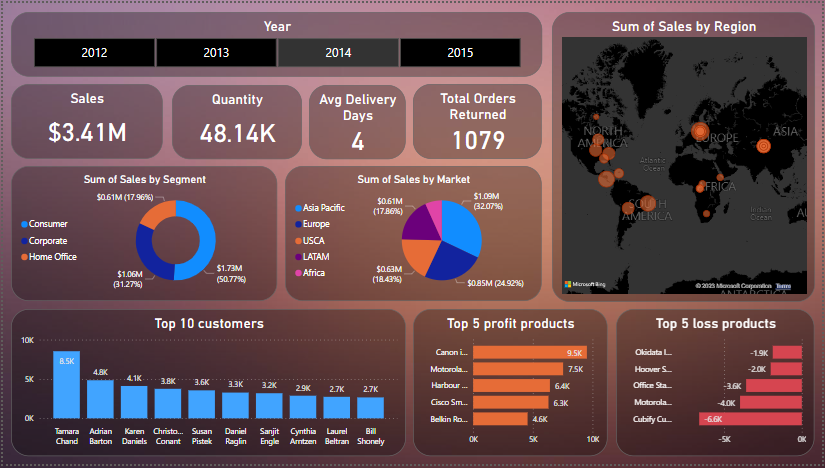

This screenshot's page, from the dashboard's own definition file:
{"tool":"powerbi","page":{"name":"Page 1","canvas":[1280,720],"ordinal":0},"visuals":[{"type":"card","title":"Sales","fields":{"Values":["Sum(Orders.Sales)"]},"box":[11.7,125.8,236.5,117.4],"z":0},{"type":"card","title":"Quantity","fields":{"Values":["Sum(Orders.Quantity)"]},"box":[263.4,127.5,203,115.8],"z":1000},{"type":"card","title":"Avg Delivery Days","fields":{"Values":["Avg(Orders.Delivery Days)"]},"box":[478.1,127.5,151,115.8],"z":2000},{"type":"slicer","title":"Year","fields":{"Values":["Orders.Year"]},"box":[11.7,13.4,830.4,100.7],"z":3000},{"type":"card","title":"Total Orders Returned","fields":{"Values":["Sum(Returns.Return Orders)"]},"box":[640.8,125.8,201.3,117.4],"z":4000},{"type":"map","fields":{"Size":["Sum(Orders.Sales)"],"Category":["Orders.Region"]},"box":[857.2,13.4,411,452.9],"z":5000},{"type":"barChart","title":"Top 5 profit products","fields":{"Y":["Sum(Orders.Profit)"],"Category":["Orders.Product Name"]},"box":[640.8,478.1,303.6,229.8],"z":6000},{"type":"barChart","title":"Top 5 loss products","fields":{"Y":["Sum(Orders.Profit)"],"Category":["Orders.Product Name"]},"box":[957.9,478.1,310.4,229.8],"z":7000},{"type":"pieChart","fields":{"Y":["Sum(Orders.Sales)"],"Category":["Orders.Market"]},"box":[441.2,255,400.9,211.4],"z":8000},{"type":"donutChart","fields":{"Category":["Orders.Segment"],"Y":["Sum(Orders.Sales)"]},"box":[11.7,255,416,211.4],"z":9000},{"type":"columnChart","title":"Top 10 customers","fields":{"Y":["Sum(Orders.Profit)"],"Category":["Orders.Customer Name"]},"box":[11.7,478.1,617.4,229.8],"z":10000}]}

Visuals, with their boxes in screenshot pixels (x1, y1, x2, y2), scaled from the page's 1280x720 canvas onto the 825x468 screenshot:
"Sales" card: 8/82/160/158
"Quantity" card: 170/83/301/158
"Avg Delivery Days" card: 308/83/405/158
"Year" slicer: 8/9/543/74
"Total Orders Returned" card: 413/82/543/158
map - Sum(Orders.Sales) x Orders.Region: 552/9/817/303
"Top 5 profit products" barChart: 413/311/609/460
"Top 5 loss products" barChart: 617/311/817/460
pieChart - Sum(Orders.Sales) x Orders.Market: 284/166/543/303
donutChart - Orders.Segment x Sum(Orders.Sales): 8/166/276/303
"Top 10 customers" columnChart: 8/311/405/460
